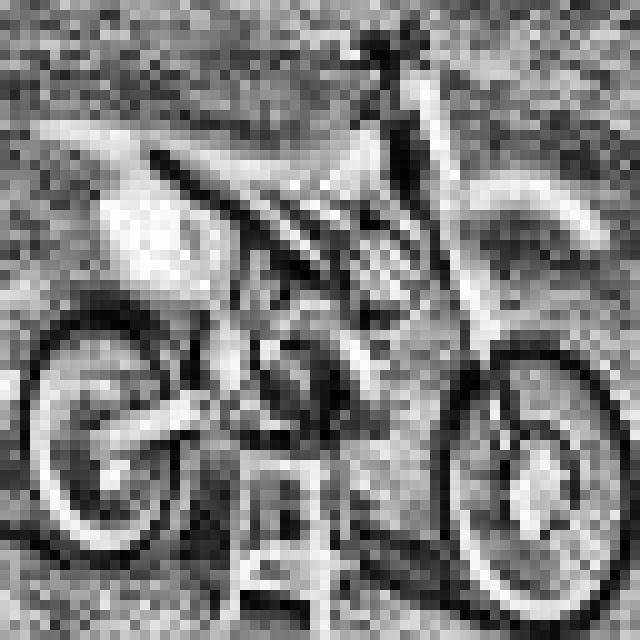mopeds: (28, 29, 640, 627)
